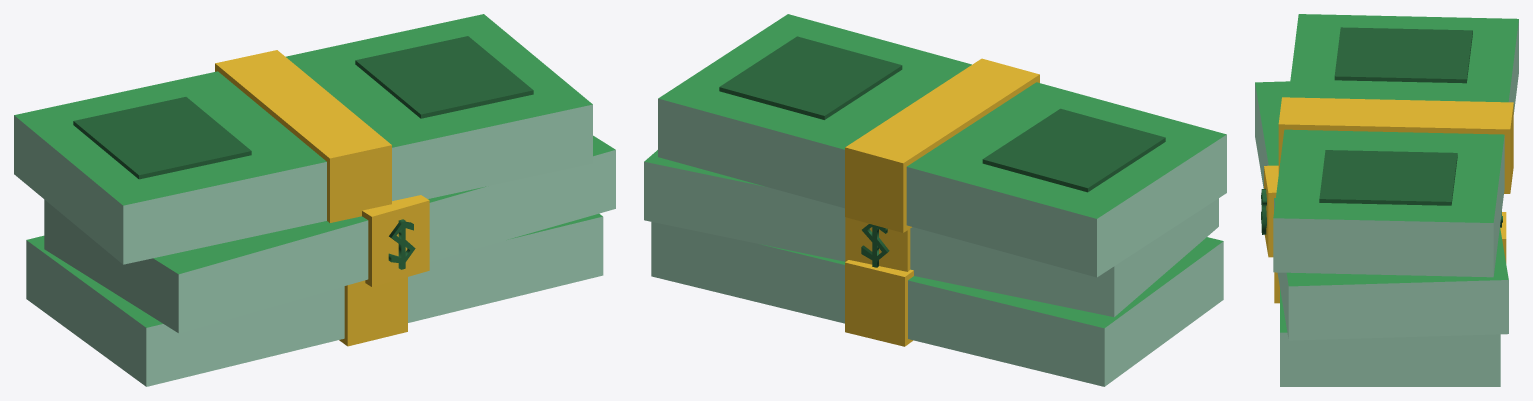
The model's file is pickup_cash.glb.
The picture shows the model from 3 angles, left to right: view 1: azimuth 30°, elevation 25°; view 2: azimuth 150°, elevation 25°; view 3: azimuth 270°, elevation 25°; orthographic projection. The views are drawn at different scales.
Parts seen in each view (by area): view 1: pickup_cash__body; view 2: pickup_cash__body; view 3: pickup_cash__body.
Boxes of the visible parts, x1,y1,x2,y2 form: pickup_cash__body: (14, 14, 615, 386); pickup_cash__body: (644, 14, 1226, 386); pickup_cash__body: (1255, 14, 1518, 386).
Bounding box in the file's own units: 0.3628 × 0.134 × 0.1855.
Materials: 1 (1 with a texture image).
